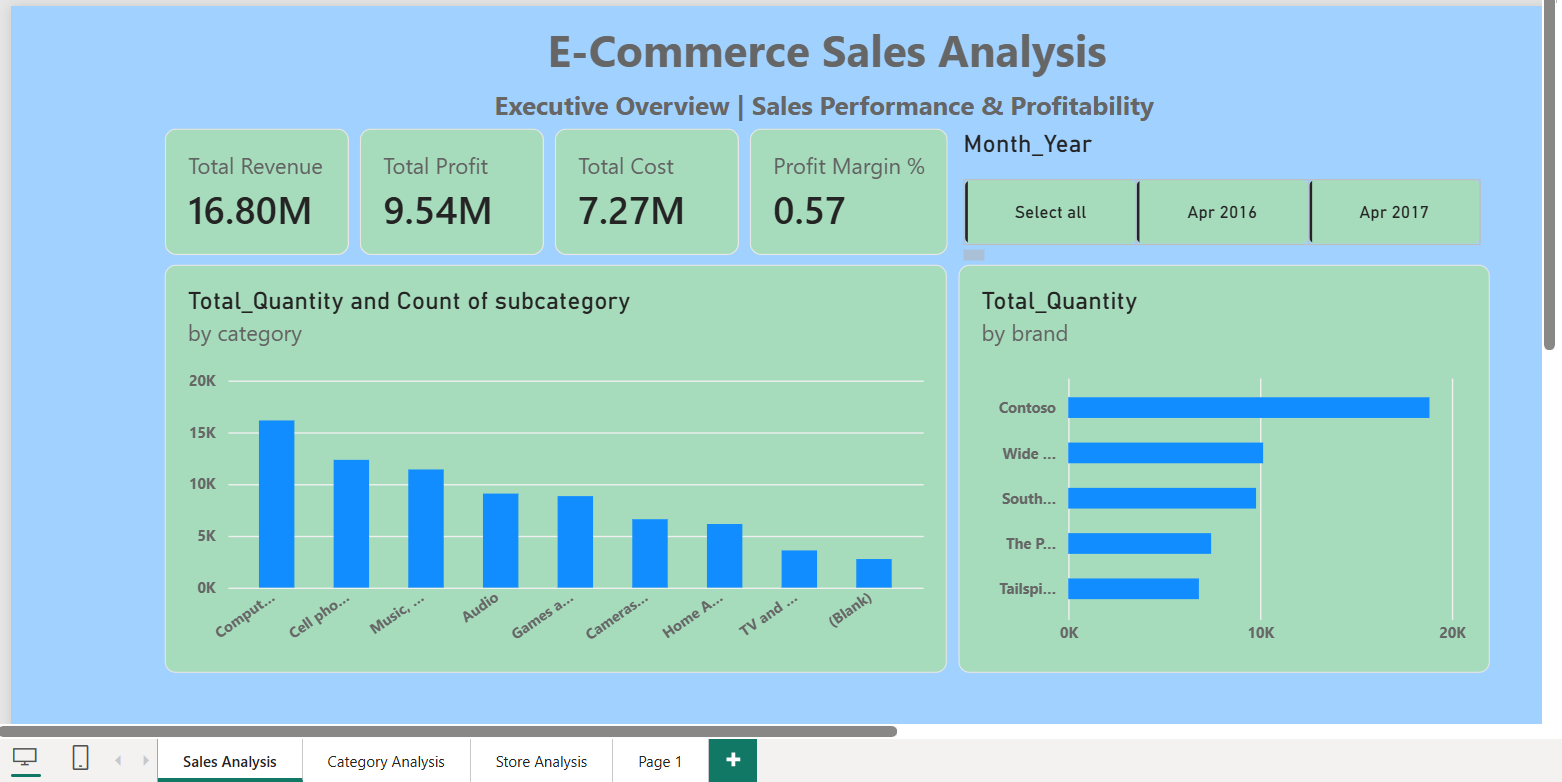

Layout of this report page (visuals, bound fields, positions):
{"tool":"powerbi","page":{"name":"Sales Analysis","canvas":[1920,1080],"ordinal":0},"visuals":[{"type":"textbox","box":[111.7,10,963.3,49.2],"z":0},{"type":"textbox","box":[111.7,59.2,960,30],"z":1000},{"type":"cardVisual","fields":{"Data":["public sales.Total Revenue"]},"box":[112,89,134,92],"z":2000},{"type":"cardVisual","fields":{"Data":["public sales.Total Profit"]},"box":[254,89,134,92],"z":3000},{"type":"cardVisual","fields":{"Data":["public sales.Total Cost"]},"box":[395,89,134,92],"z":4000},{"type":"cardVisual","fields":{"Data":["public sales.Profit Margin %"]},"box":[537,89,144,92],"z":5000},{"type":"clusteredColumnChart","fields":{"Category":["public products.category"],"Y":["public sales.Total_Quantity"]},"box":[112,188,569,297],"z":6000},{"type":"clusteredBarChart","fields":{"Y":["public sales.Total_Quantity"],"Category":["public products.brand"]},"box":[689,188,386,297],"z":7000},{"type":"advancedSlicerVisual","fields":{"Values":["public sales.Month_Year"]},"box":[693,89,378,98],"z":8000}]}

Visuals, with their boxes on the page's 1920x1080 design canvas (x1, y1, x2, y2). These are canvas units, not pixel positions in the 1562x782 screenshot, which may show the page scaled, cropped or inside an application window:
textbox: x1=112, y1=10, x2=1075, y2=59
textbox: x1=112, y1=59, x2=1072, y2=89
cardVisual - public sales.Total Revenue: x1=112, y1=89, x2=246, y2=181
cardVisual - public sales.Total Profit: x1=254, y1=89, x2=388, y2=181
cardVisual - public sales.Total Cost: x1=395, y1=89, x2=529, y2=181
cardVisual - public sales.Profit Margin %: x1=537, y1=89, x2=681, y2=181
clusteredColumnChart - public products.category x public sales.Total_Quantity: x1=112, y1=188, x2=681, y2=485
clusteredBarChart - public sales.Total_Quantity x public products.brand: x1=689, y1=188, x2=1075, y2=485
advancedSlicerVisual - public sales.Month_Year: x1=693, y1=89, x2=1071, y2=187
